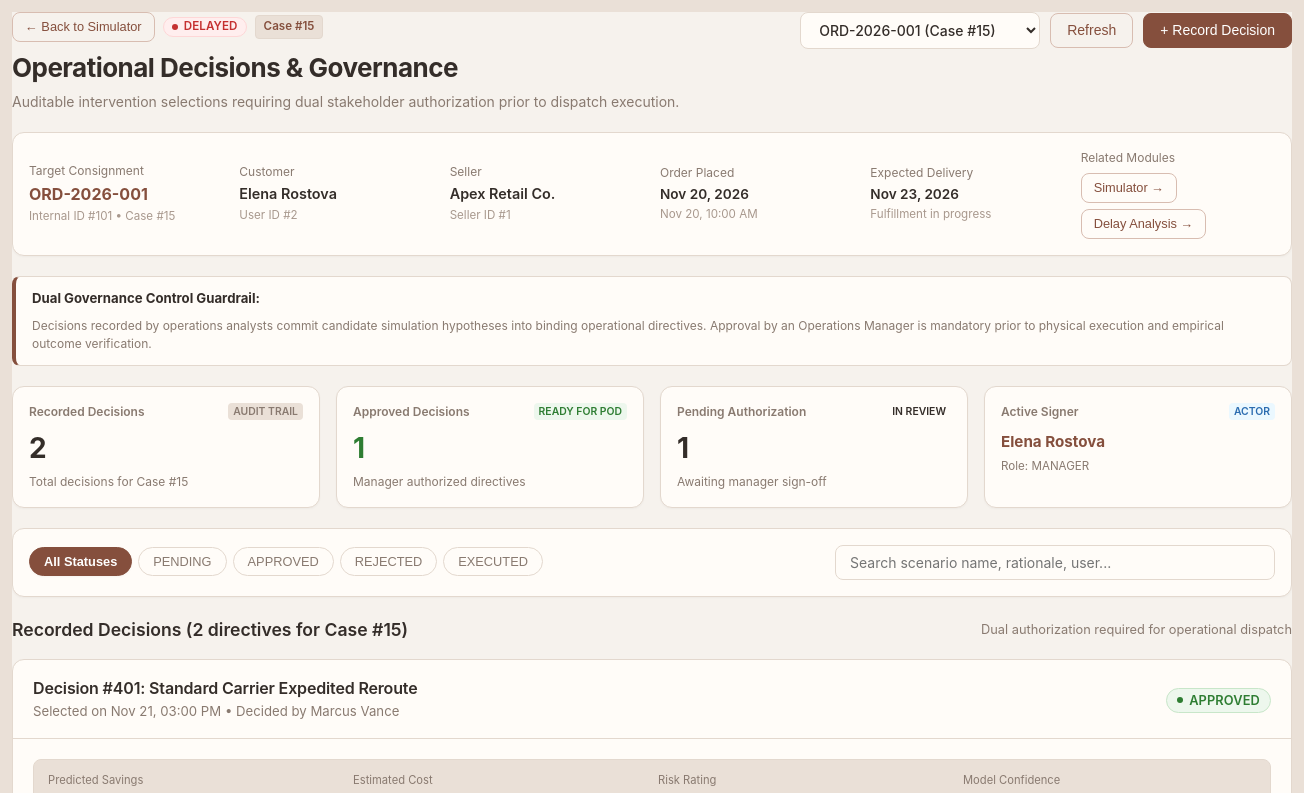
it: DecisionsPage Component › filters decisions with text search
The width and height of the screenshot is (1304, 793).
Expected: the heading "Decision #401: Standard Carrier Expedited Reroute" is shown, [33,676,418,700]
In the field with placeholder "Search scenario name, rationale, user...": (1055, 562) [835,545,1275,580], type "Dual Facility"
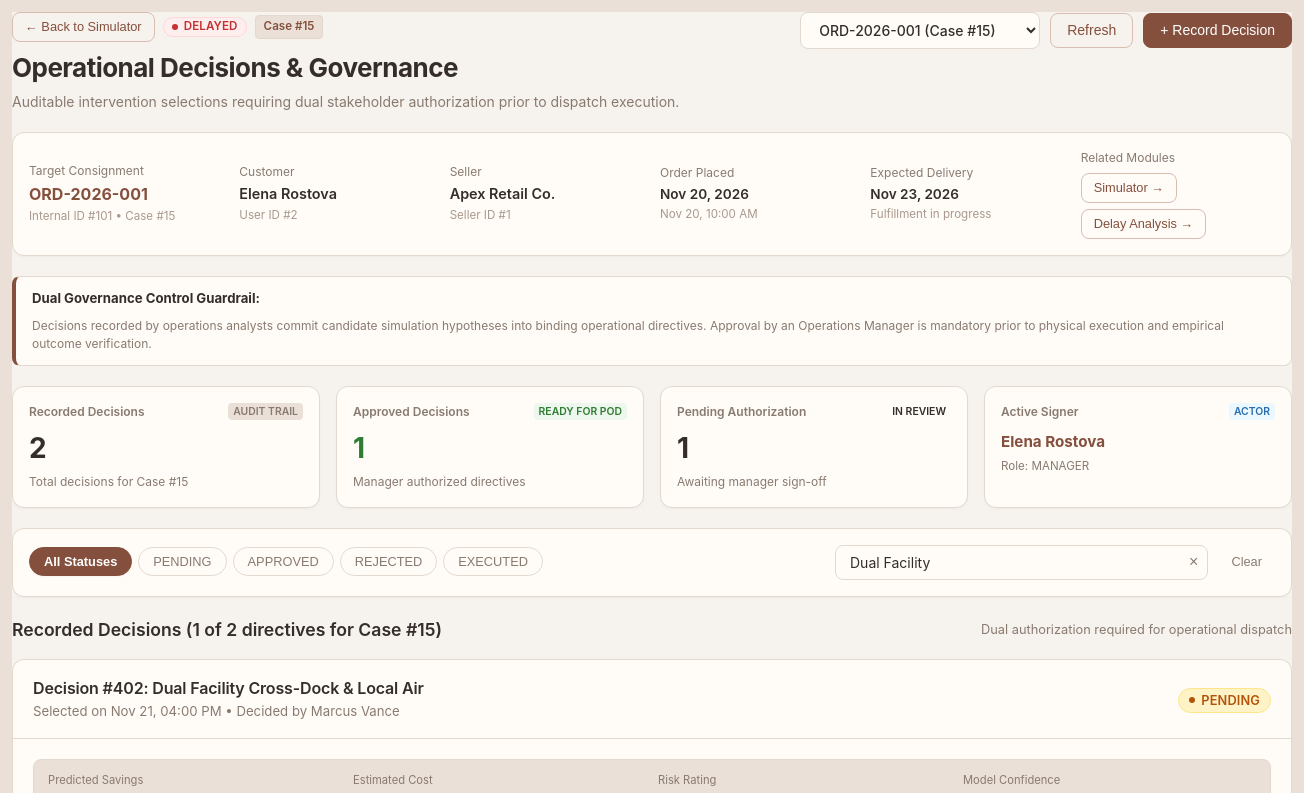
Expected: the heading "Decision #402: Dual Facility Cross-Dock & Local Air" is shown, [33,676,424,700]
Expected: the heading "Decision #401:" is gone
